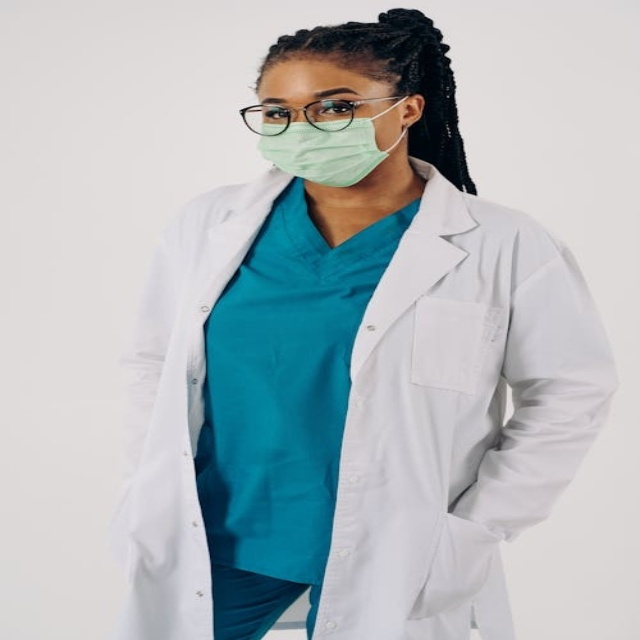Gafas: (239, 95, 407, 134)
Mascara: (254, 98, 407, 186)
